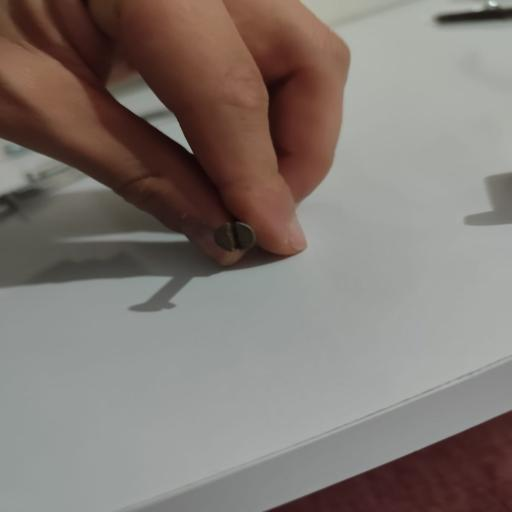Slotted: (212, 219, 254, 256)
